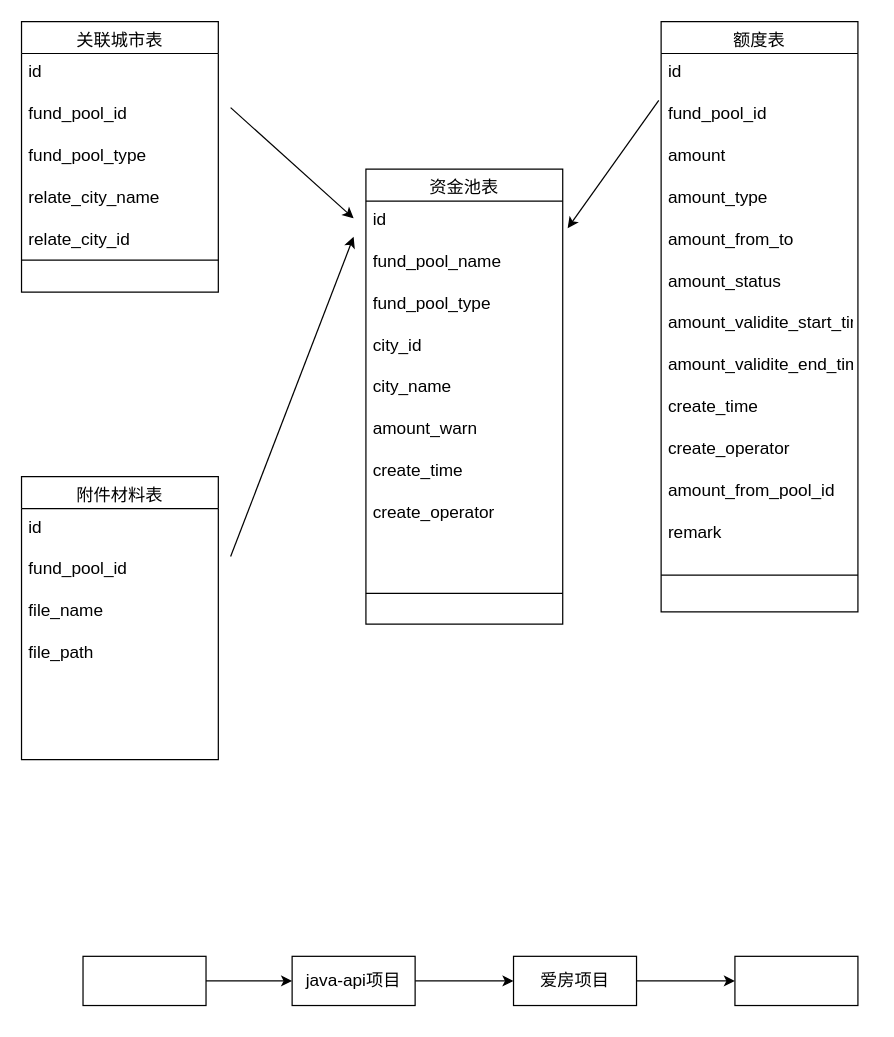
The diagram is 894 pixels wide and 1037 high, and some of its shapes have lost their labels. The shapes that lost their labels are listed below. From the top down, each one's centre as x and y in pixels, then its label:
[144,980]: 前端
[796,980]: db
